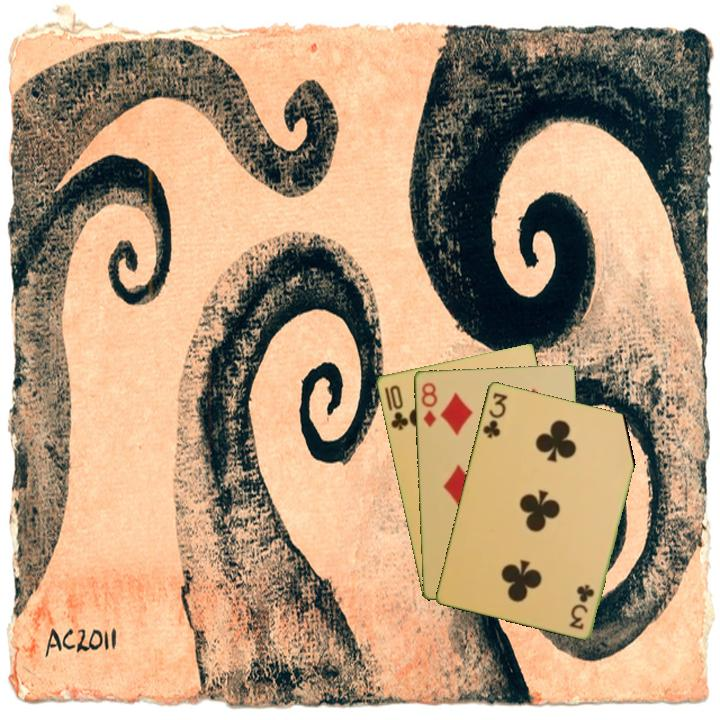10c: (386, 381, 411, 433)
3c: (479, 389, 510, 441), (567, 580, 597, 632)
8d: (418, 379, 440, 430)
